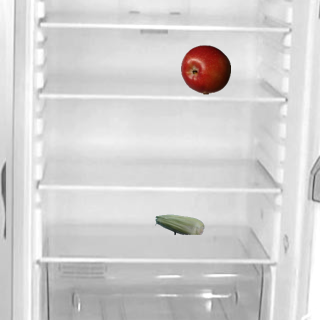Apple Braeburn: (180, 44, 230, 94)
Corn Husk: (154, 199, 204, 249)
